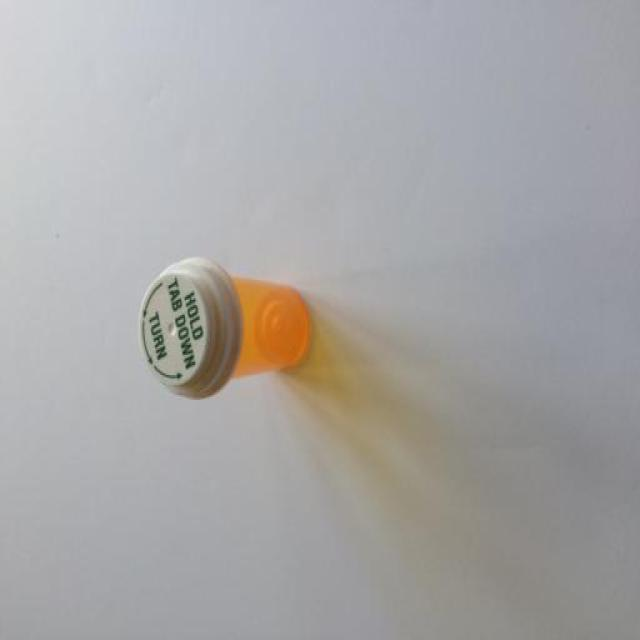plastic: (138, 253, 312, 400)
